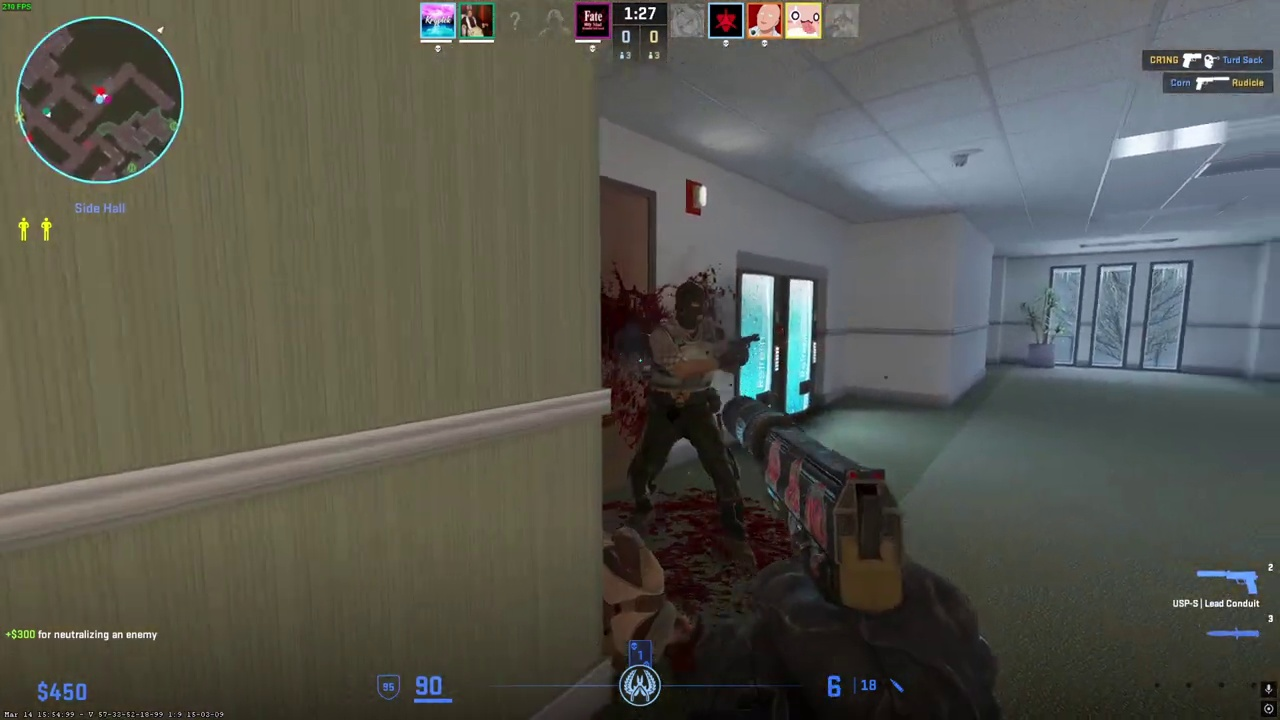Terrorist: (628, 281, 749, 539)
